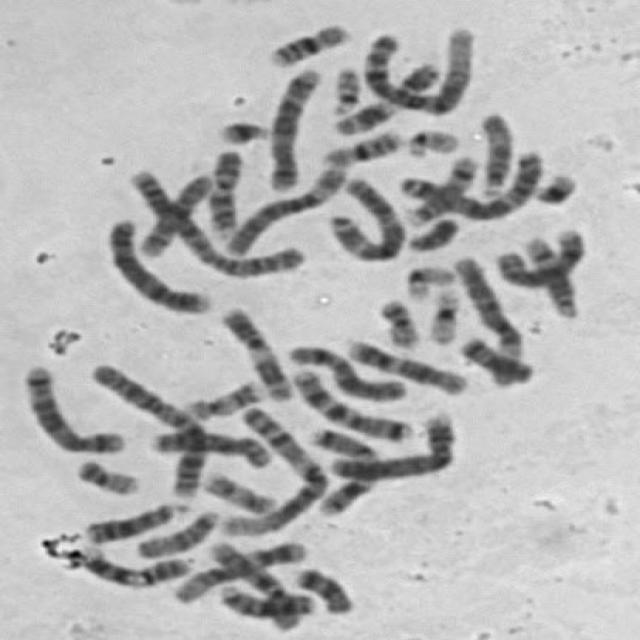A1: (213, 401, 331, 538), (357, 22, 479, 117)
A2: (122, 163, 312, 280), (83, 358, 212, 500)
A3: (399, 144, 547, 223), (322, 170, 408, 263)
B4: (100, 212, 215, 317), (323, 408, 462, 482)
B5: (17, 358, 128, 456), (263, 61, 328, 194)
C10: (202, 536, 300, 632), (133, 168, 216, 260)
C11: (325, 55, 445, 138), (212, 302, 294, 404)
C12: (167, 535, 312, 605), (340, 333, 473, 397)
C6: (218, 160, 352, 257), (444, 248, 532, 388)
C7: (284, 362, 416, 444), (298, 421, 382, 519)
C8: (487, 221, 590, 291), (144, 425, 280, 471)
C9: (73, 540, 193, 588), (201, 144, 244, 238)
D13: (75, 496, 188, 546), (214, 579, 318, 621)
D14: (402, 150, 484, 228), (516, 231, 582, 320)
D15: (130, 505, 224, 560), (475, 106, 516, 200)
E16: (263, 17, 354, 69), (316, 123, 406, 169)
E17: (195, 465, 280, 517), (178, 373, 269, 421)
E18: (452, 331, 536, 386), (286, 561, 357, 617)
F19: (422, 282, 464, 347), (399, 260, 457, 302)
F20: (68, 454, 144, 496), (371, 292, 424, 350)
G21: (527, 166, 581, 207), (210, 114, 272, 147)
G22: (400, 122, 462, 159), (325, 61, 363, 116)
X: (283, 337, 411, 403)
Y: (402, 212, 462, 254)
